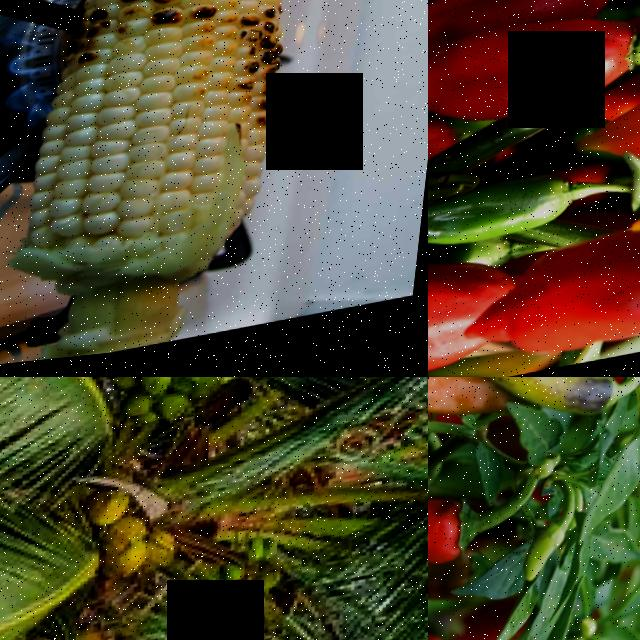chilli: (428, 10, 640, 153), (428, 476, 502, 609)
coconuts: (88, 488, 190, 584), (114, 377, 223, 432)
corn: (6, 2, 321, 293)
